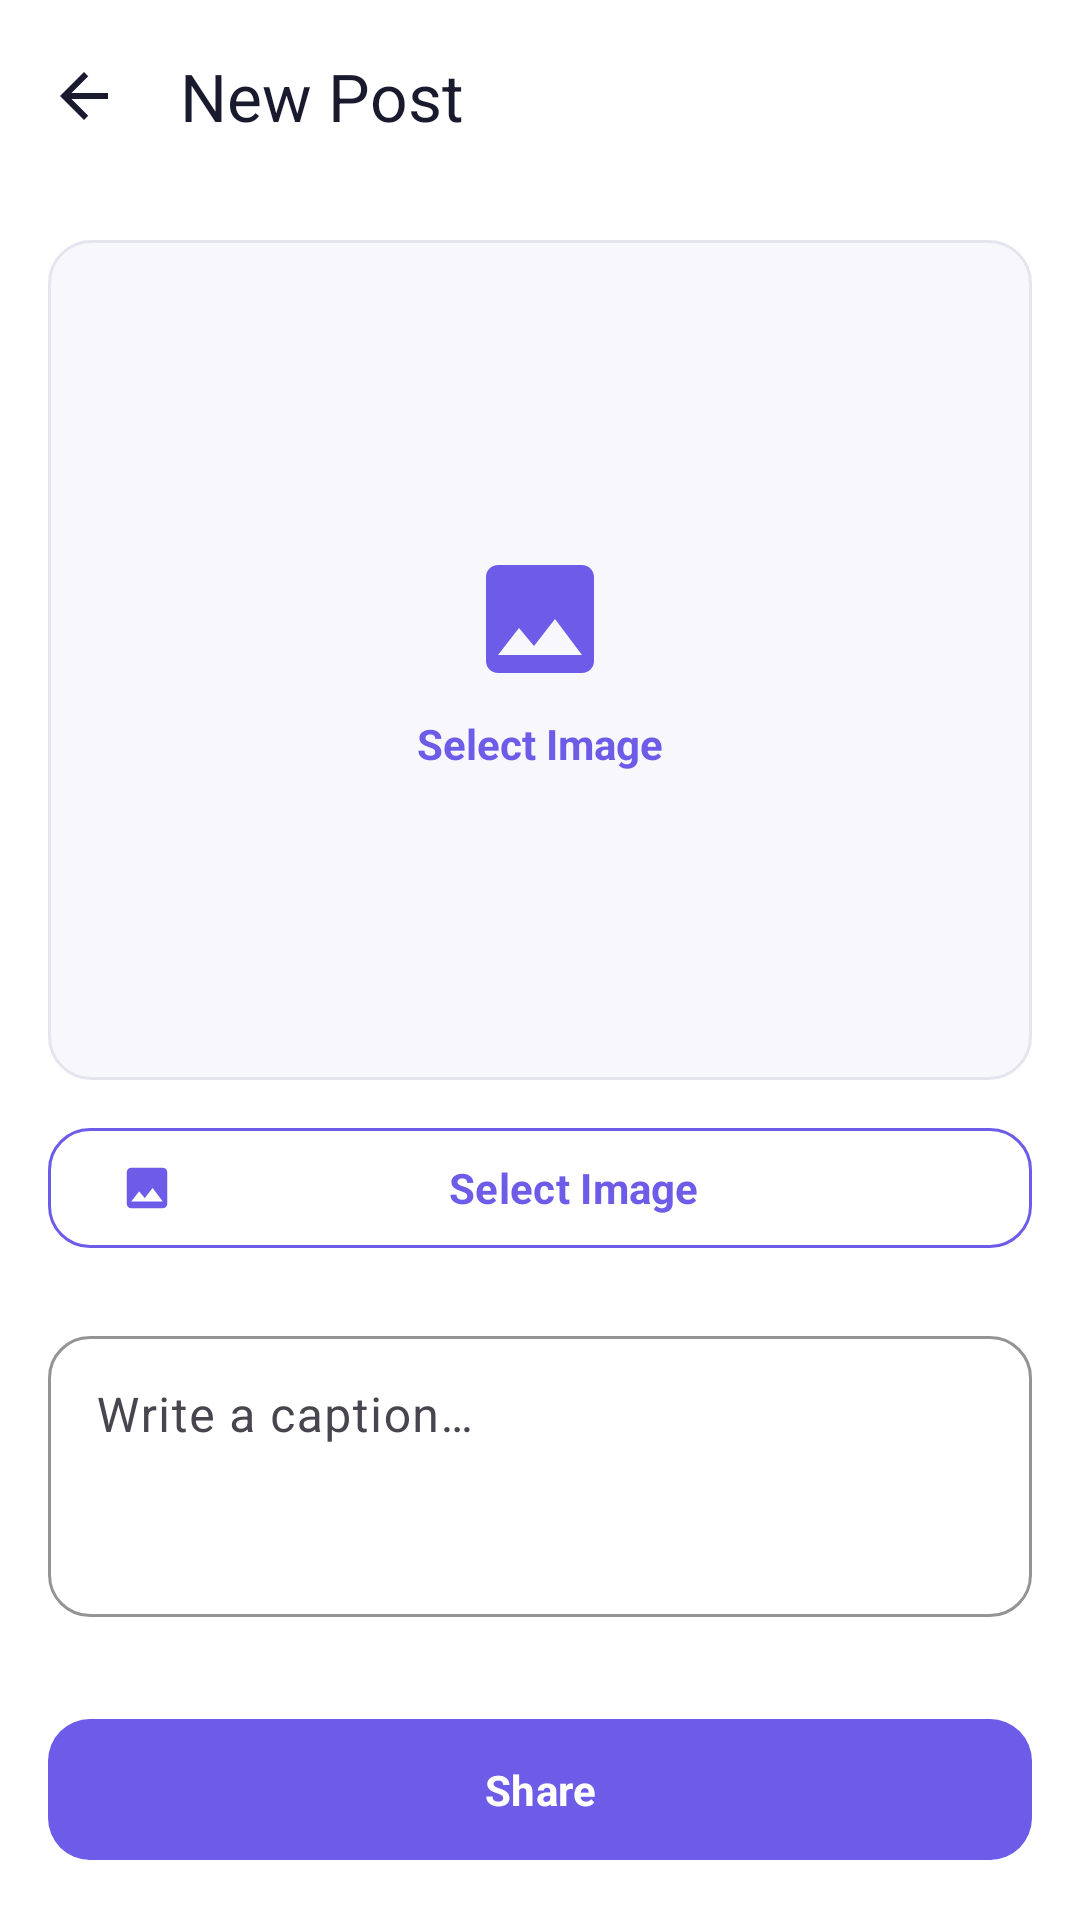

Screen size 1080×1920. Icon name, then its box in pixels as region(x1, y1, x2, y2):
gallery: region(486, 565, 594, 673)
